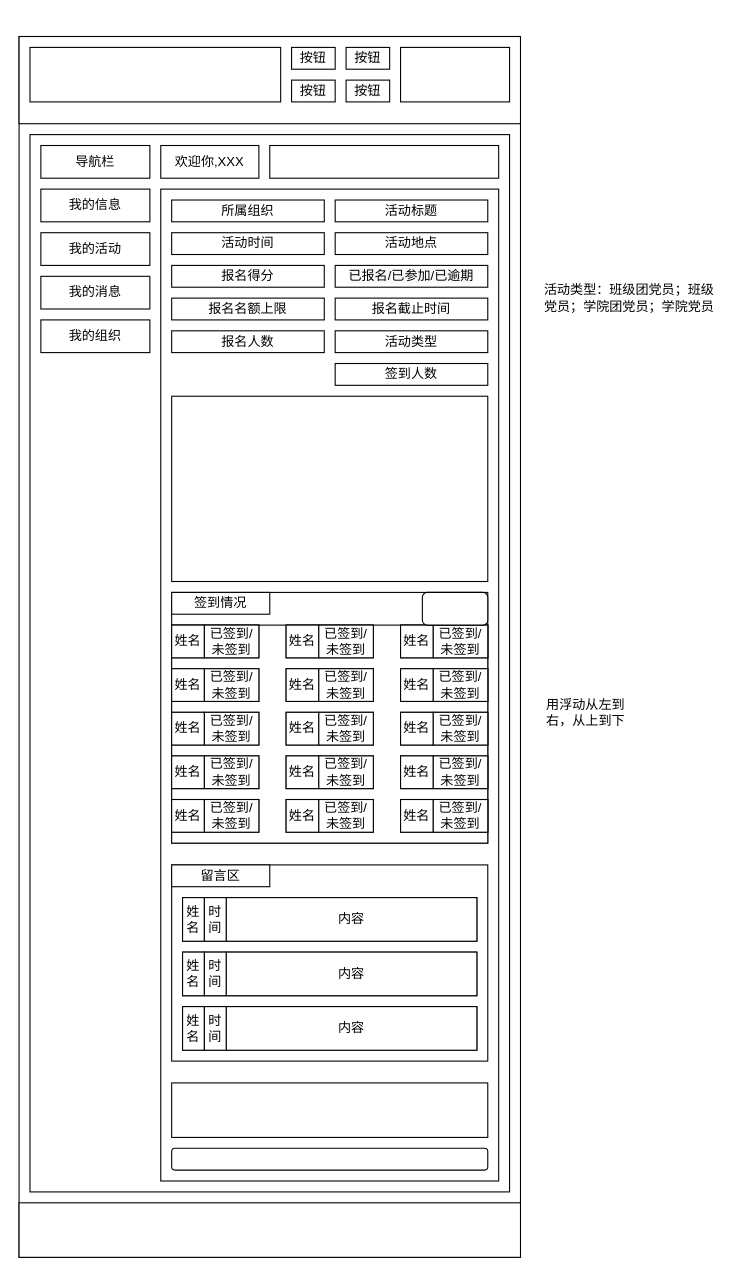
This 736x1276 diagram has some shape labels left out. Here are the shapes that lost their labels. From the top down, the box of each, then its label:
(29, 46, 281, 102): 网站标题（文字+图片）
(399, 46, 510, 102): 当前登录学生信息显示（跳转主页）
(269, 144, 499, 178): 申请活动
(171, 395, 488, 582): 活动详细内容
(421, 591, 488, 625): 点击签到
(171, 1082, 488, 1137): 写留言
(171, 1147, 488, 1170): 提交留言
(18, 1202, 520, 1257): 底部导航栏&联系发邮件
